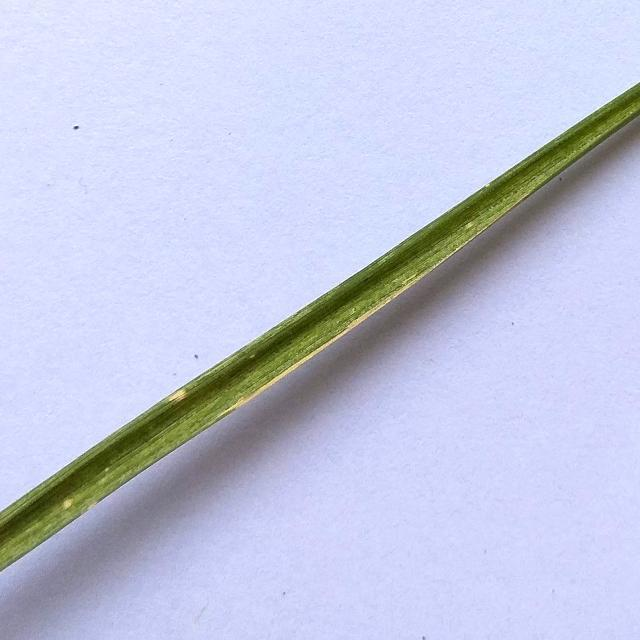Blast: (164, 392, 193, 404), (58, 499, 80, 509)
